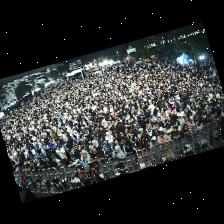person: (122, 141, 138, 164), (56, 146, 68, 165), (138, 135, 148, 155), (63, 137, 73, 155), (91, 148, 104, 161), (80, 151, 89, 169), (157, 132, 170, 144), (112, 146, 124, 159), (129, 131, 138, 147), (79, 142, 90, 155), (52, 154, 63, 167), (69, 152, 80, 165), (45, 156, 56, 168), (172, 119, 182, 132), (170, 126, 180, 139), (72, 135, 80, 151), (119, 131, 128, 144), (105, 132, 113, 146), (136, 116, 144, 130), (37, 158, 47, 169), (145, 117, 155, 128), (163, 116, 173, 127), (90, 126, 99, 138), (44, 141, 53, 153), (180, 125, 189, 137), (176, 115, 184, 128), (135, 127, 143, 140), (91, 141, 101, 151), (93, 135, 102, 146), (105, 146, 112, 160), (195, 118, 202, 132), (49, 138, 56, 152), (49, 130, 57, 142), (163, 124, 171, 136), (185, 116, 193, 128), (112, 138, 121, 148), (202, 116, 211, 126), (160, 111, 168, 122), (36, 150, 44, 161), (145, 124, 152, 136), (101, 141, 107, 155), (149, 137, 157, 147), (152, 126, 159, 137), (209, 115, 216, 126), (189, 125, 196, 136), (124, 127, 130, 139), (93, 175, 103, 182), (213, 112, 220, 121), (31, 163, 38, 171), (201, 109, 206, 120), (156, 122, 162, 131), (17, 164, 24, 171), (24, 164, 31, 171), (182, 114, 187, 122)
